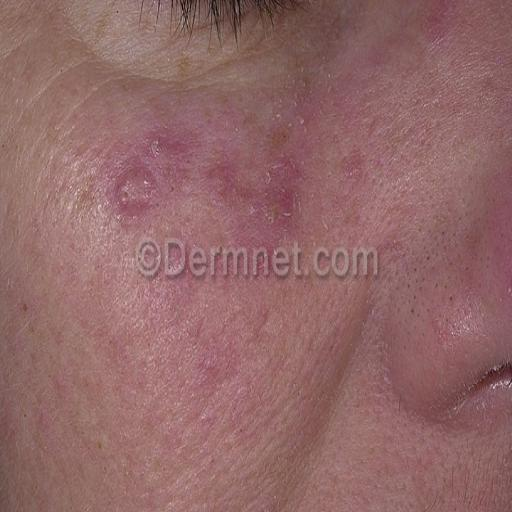Skin_Lesion: (109, 126, 187, 235), (255, 138, 306, 243), (200, 150, 242, 205), (470, 358, 510, 400), (269, 333, 294, 377), (341, 152, 374, 183), (318, 214, 336, 245), (502, 274, 512, 308)
